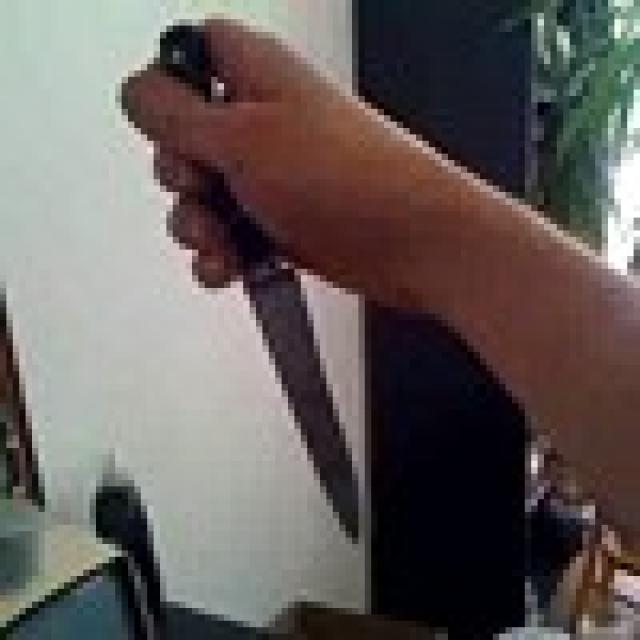Knife_Handle: (115, 0, 365, 544)
